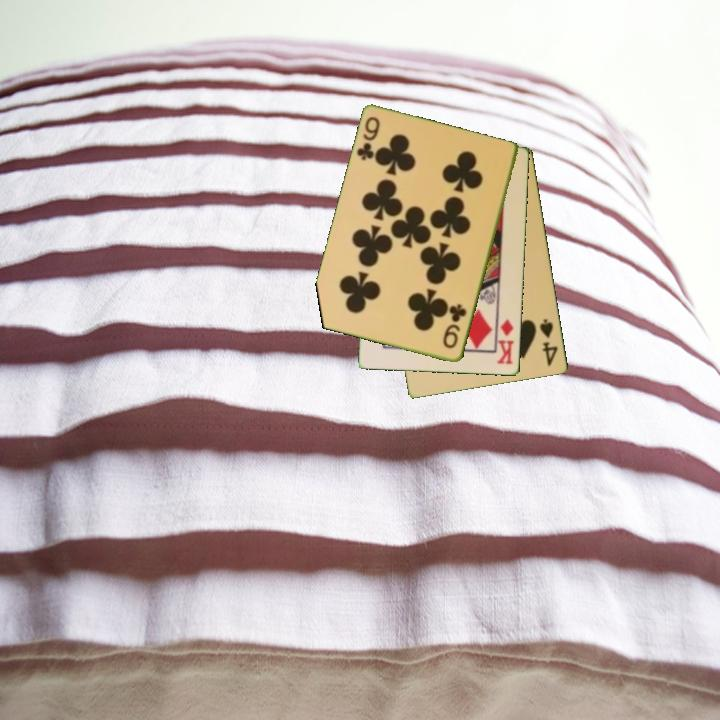4s: (536, 316, 561, 369)
9c: (439, 300, 470, 352), (353, 113, 383, 164)
Kd: (493, 316, 517, 367)
